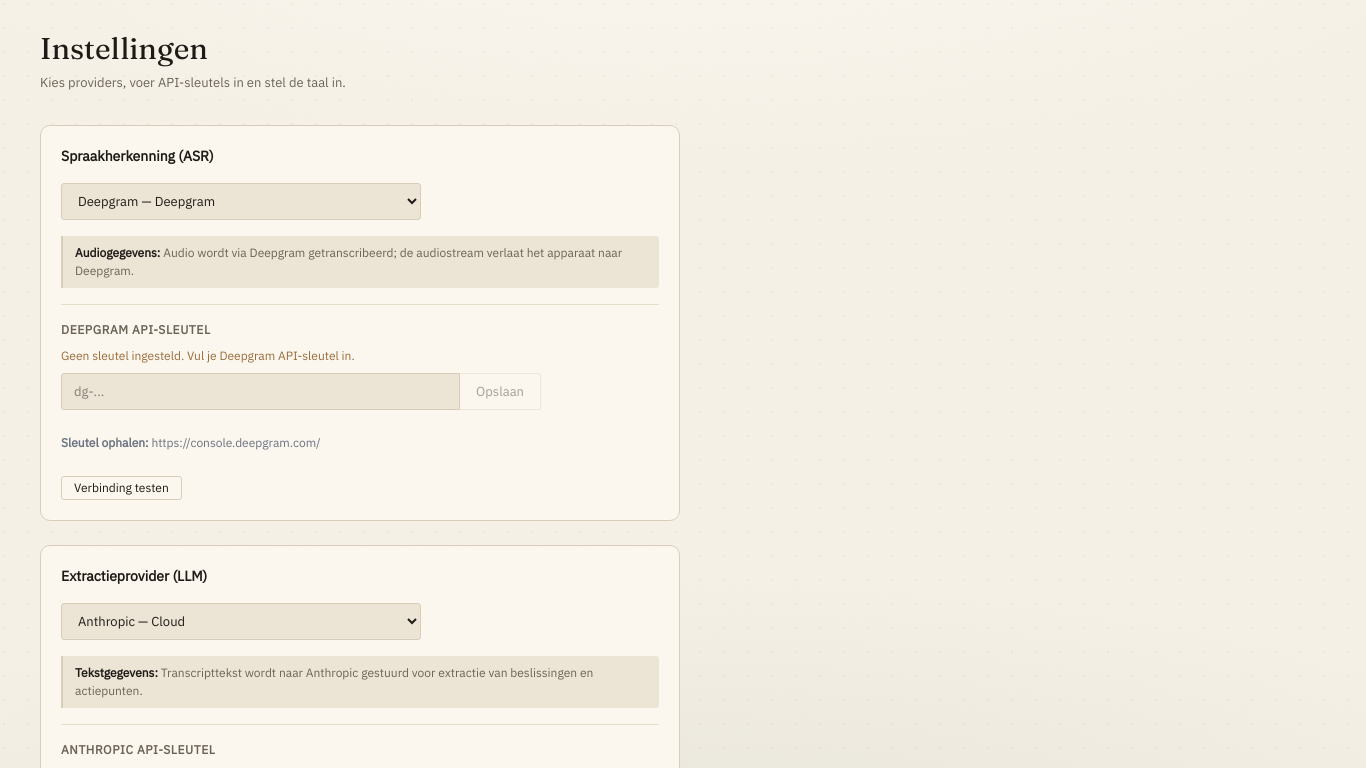
Test: SettingsScreen — local extraction › reveals the local config fields when local is selected
Select "Lokaal — LM Studio, Ollama, llama.cpp" in the dropdown with test id "extraction-provider-select" at coordinates (241, 622), box [61,603,421,640]
(page scrolled)
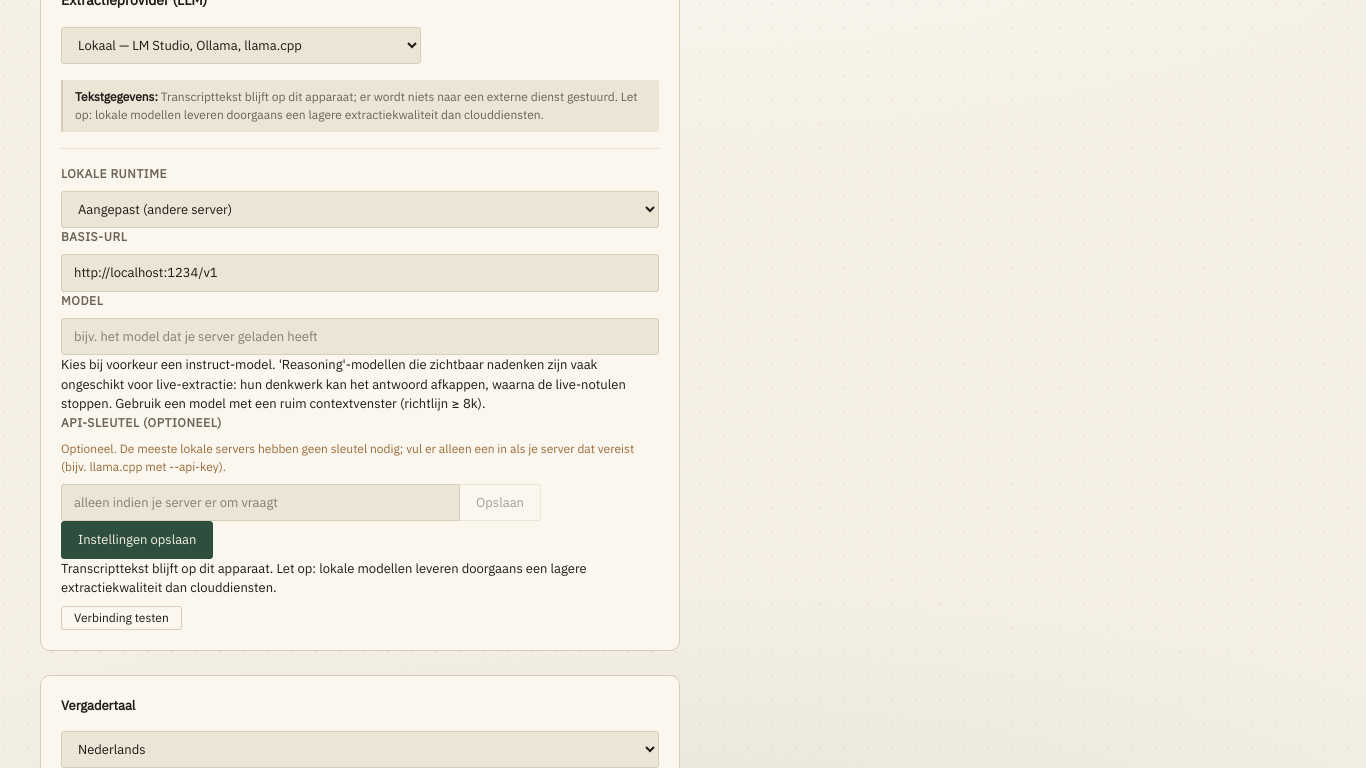
Check: the field with test id "local-base-url" is shown, box [61,254,659,292]
Check: the field with test id "local-model" is shown, box [61,318,659,355]
Check: the text with test id "local-model-hint" shows "instruct-model", box [61,356,626,412]
